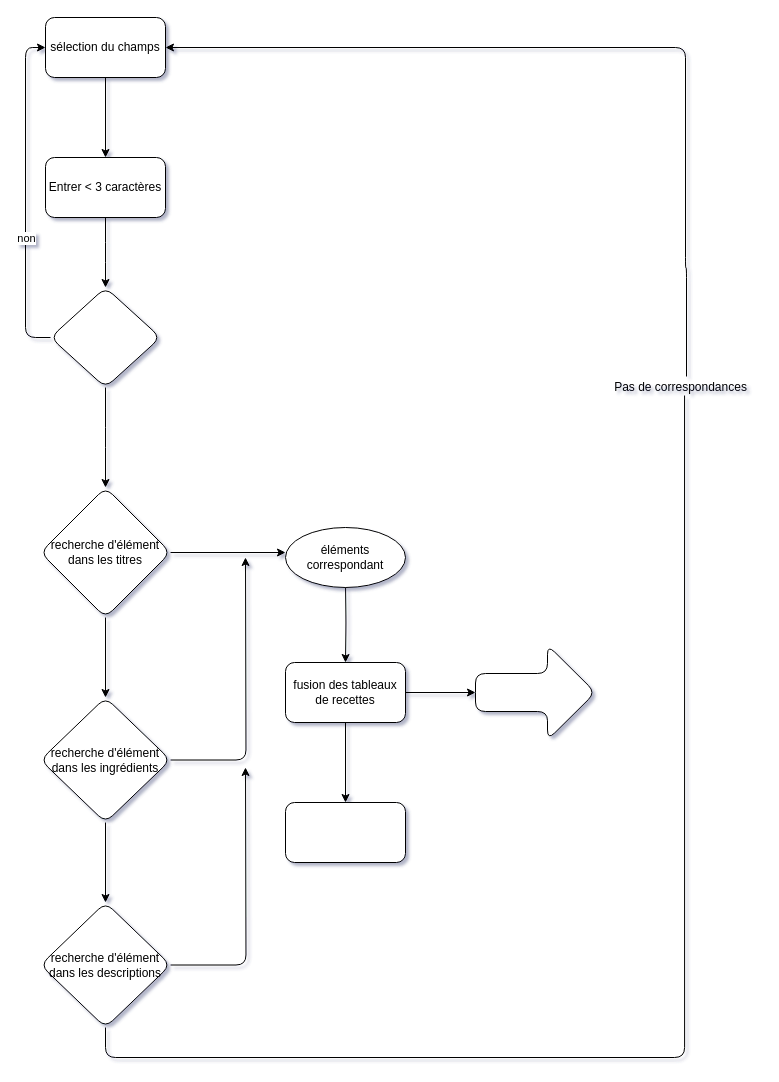
The diagram is 779 pixels wide and 1082 high, and some of its shapes have lost their labels. The shapes that lost their labels are listed below. From the top down, each one's centre as x and y in pixels, then its label:
At point (105, 337): "test si les caractères sont valides".
At point (535, 692): "envois du tableau pour les tags".
At point (345, 832): "rendu des cartes".
